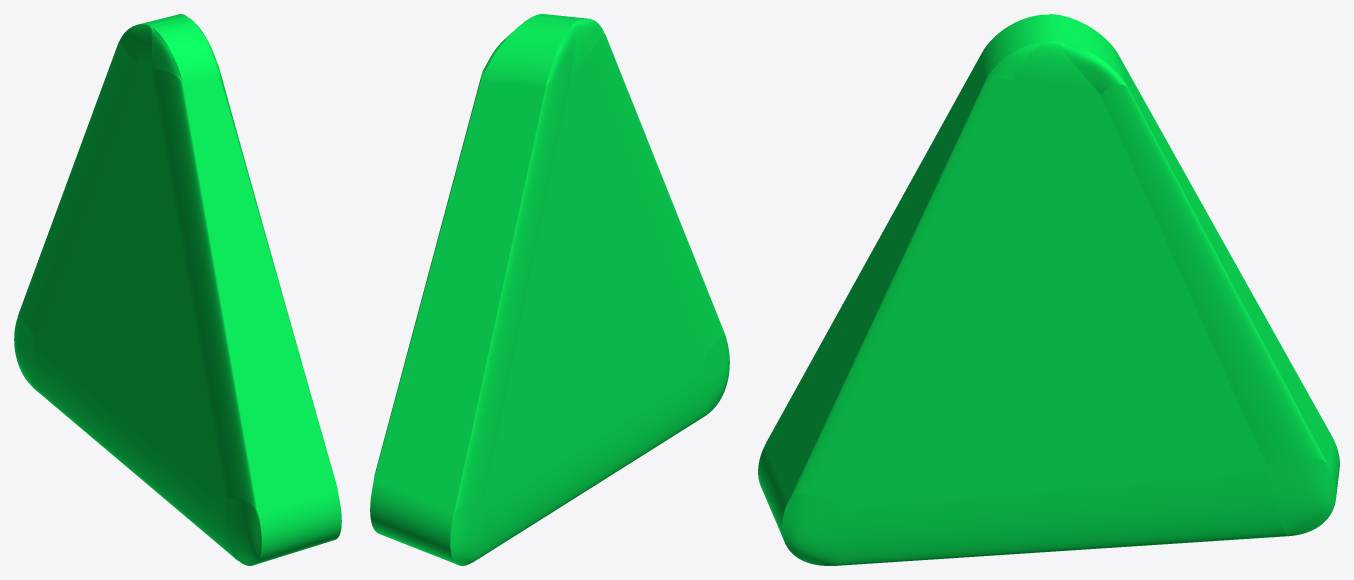
The picture shows the model from 3 angles, left to right: view 1: azimuth 30°, elevation 25°; view 2: azimuth 150°, elevation 25°; view 3: azimuth 270°, elevation 25°; orthographic projection. The views are drawn at different scales.
Visible parts, largest first — view 1: Cube; view 2: Cube; view 3: Cube.
Boxes of the visible parts, x1=… form: Cube: x1=14, y1=14, x2=341, y2=565; Cube: x1=370, y1=14, x2=729, y2=565; Cube: x1=758, y1=14, x2=1339, y2=565.
Bounding box in the file's own units: 103 × 441 × 455.
